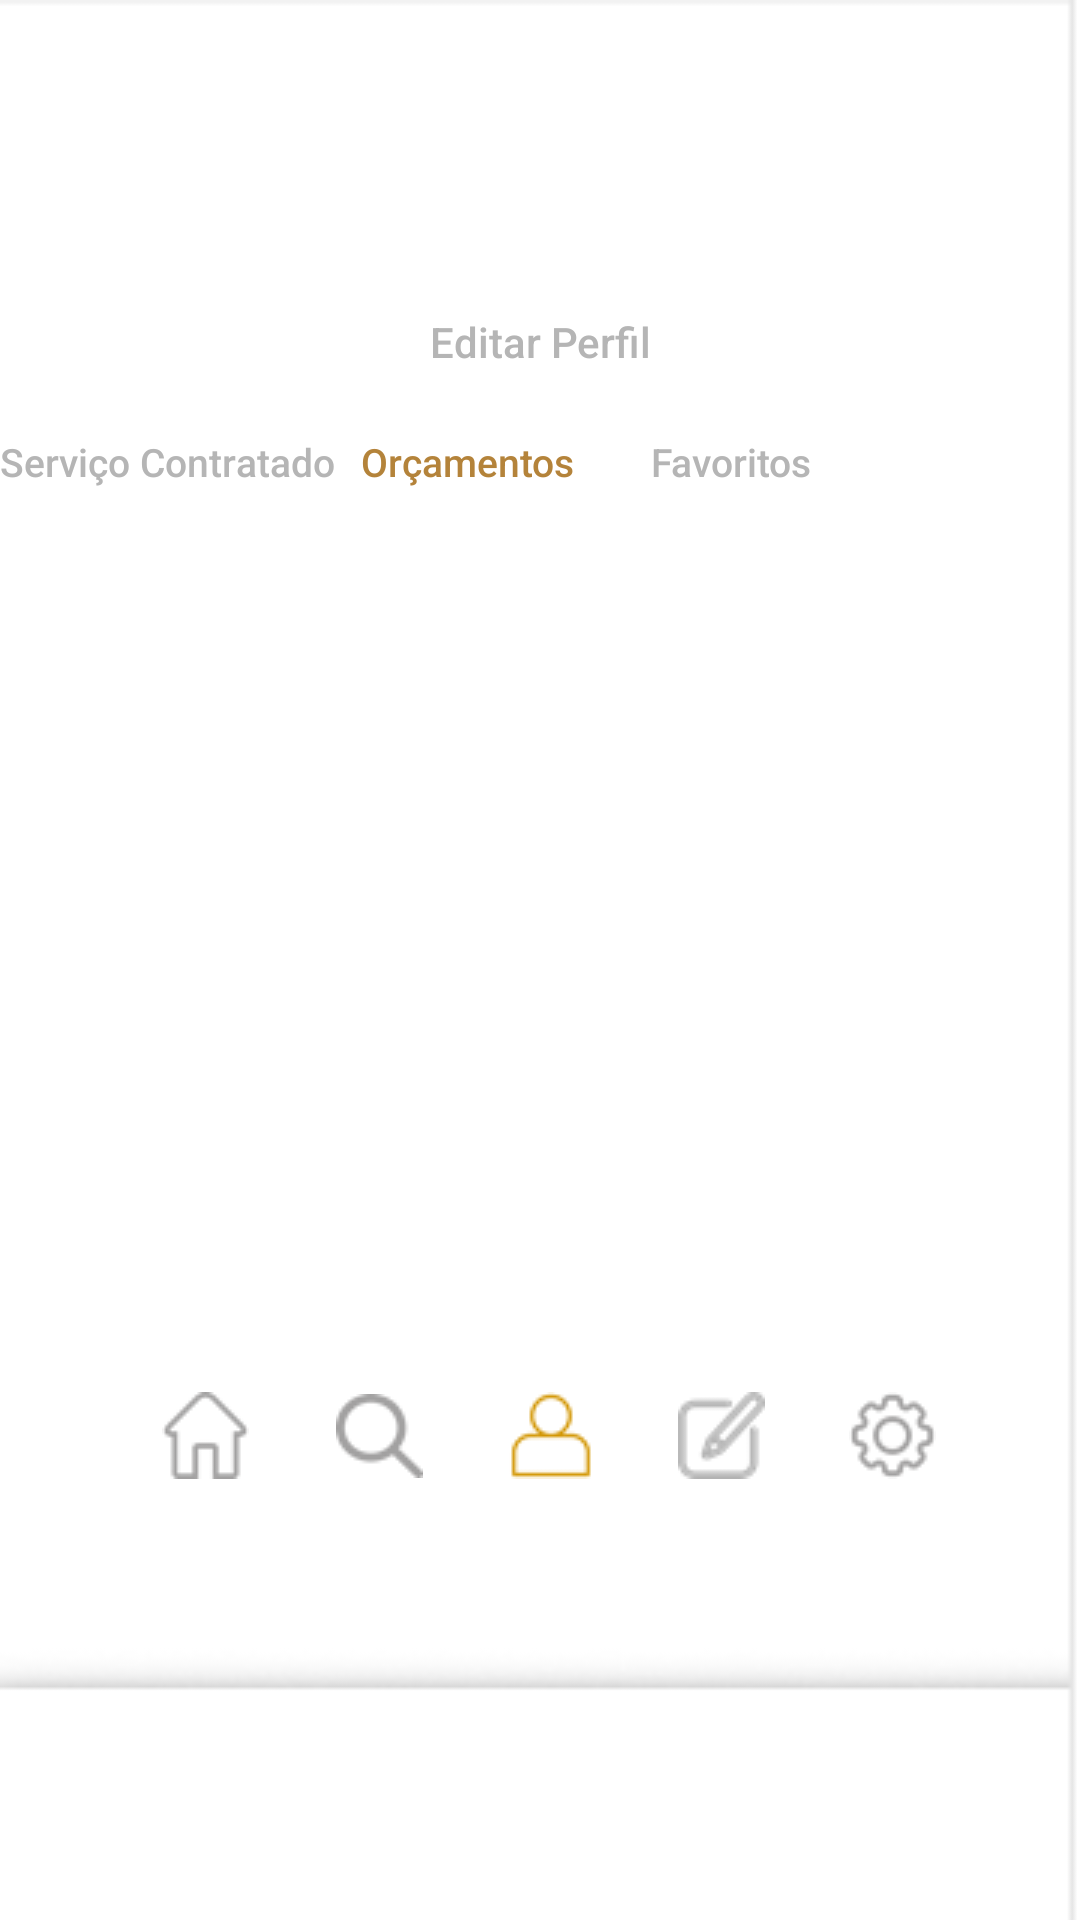

Icon bounding boxes for this 1080×1920 phone screenshot, format detection(x1, y1, x2, y2):
config: detection(851, 1394, 934, 1477)
home: detection(164, 1392, 247, 1479)
pessoa: detection(511, 1392, 591, 1479)
searche: detection(336, 1394, 423, 1478)
